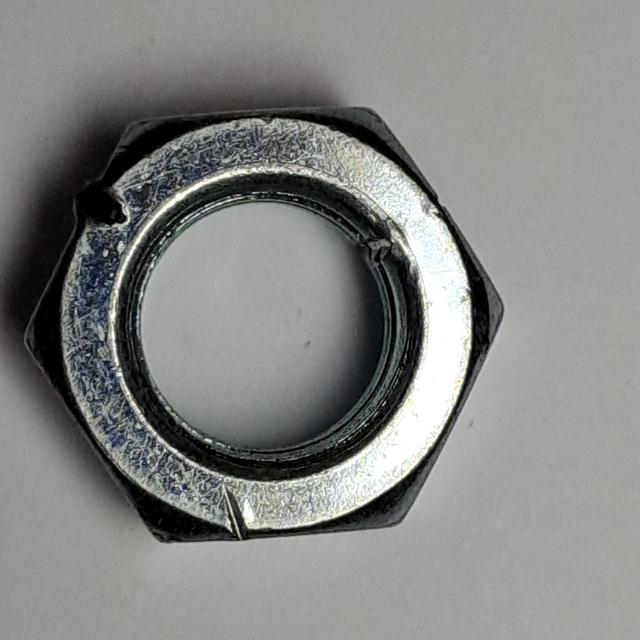Scratches: (4, 98, 527, 570)
